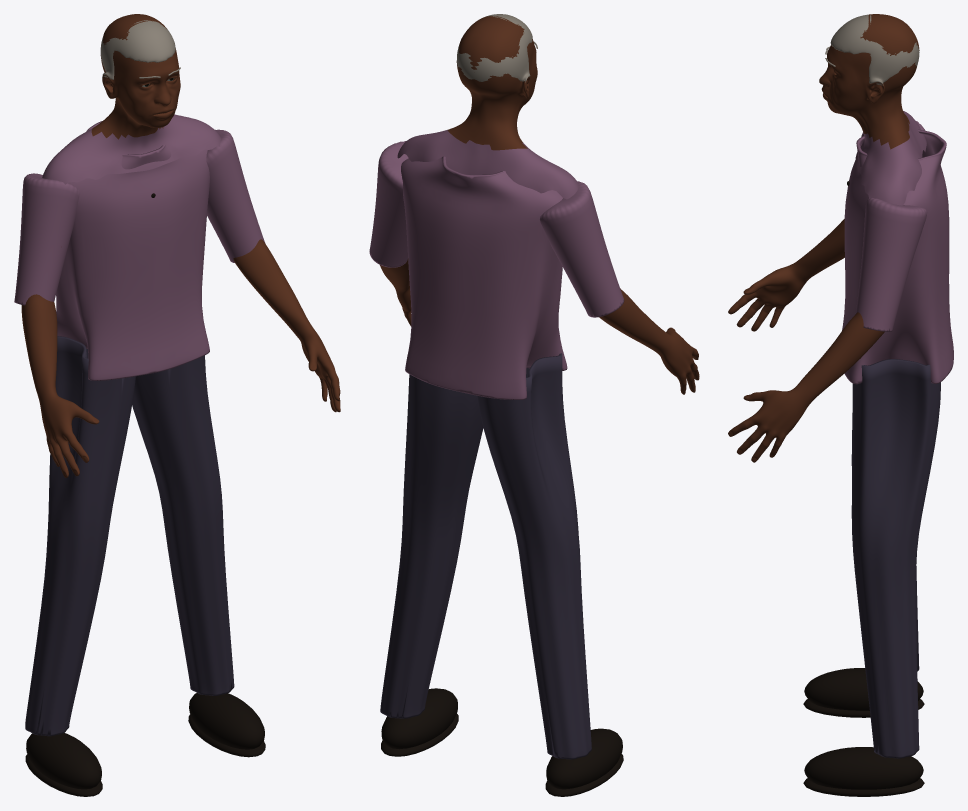
Rendered from ruth.glb.
The picture shows the model from 3 angles, left to right: view 1: azimuth 30°, elevation 25°; view 2: azimuth 150°, elevation 25°; view 3: azimuth 270°, elevation 25°; orthographic projection.
Parts seen in each view (by area): view 1: Ruth l trouser leg, Ruth linen tunic, Ruth anatomy, Ruth shirt button.002, Ruth eyebrow.001; view 2: Ruth l trouser leg, Ruth linen tunic, Ruth anatomy, Ruth shirt button.002, Ruth eyebrow.001; view 3: Ruth l trouser leg, Ruth anatomy, Ruth linen tunic, Ruth shirt button.002, Ruth eyebrow.001.
Boxes of the visible parts, bbox=[...] form: Ruth l trouser leg: bbox=[25, 335, 234, 736]; Ruth linen tunic: bbox=[14, 121, 264, 380]; Ruth anatomy: bbox=[21, 14, 340, 477]; Ruth shirt button.002: bbox=[25, 193, 265, 796]; Ruth eyebrow.001: bbox=[100, 20, 180, 79]; Ruth l trouser leg: bbox=[380, 353, 591, 759]; Ruth linen tunic: bbox=[369, 141, 624, 399]; Ruth anatomy: bbox=[380, 16, 699, 394]; Ruth shirt button.002: bbox=[381, 688, 623, 796]; Ruth eyebrow.001: bbox=[456, 14, 537, 82]; Ruth l trouser leg: bbox=[851, 359, 940, 758]; Ruth anatomy: bbox=[728, 14, 926, 462]; Ruth linen tunic: bbox=[842, 121, 953, 384]; Ruth shirt button.002: bbox=[803, 181, 924, 796]; Ruth eyebrow.001: bbox=[825, 14, 919, 85].
Bounding box in the file's own units: 0.6687 × 1.67 × 0.4669.
